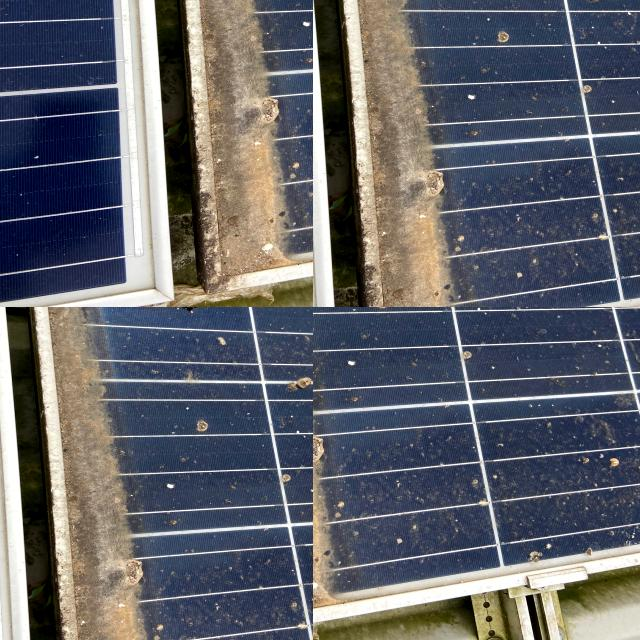bird: (313, 307, 404, 356), (567, 307, 640, 347), (442, 307, 525, 342), (518, 489, 548, 572), (613, 355, 640, 439), (450, 307, 523, 337), (342, 307, 414, 330), (562, 307, 630, 330), (370, 307, 425, 321), (502, 307, 579, 314)
crack: (313, 0, 353, 25), (313, 0, 364, 17), (313, 0, 348, 22), (313, 0, 352, 14), (313, 0, 345, 17), (313, 0, 364, 10), (313, 0, 341, 17), (313, 0, 343, 15), (320, 0, 364, 8), (313, 0, 342, 10), (313, 0, 332, 13), (313, 0, 339, 9), (313, 0, 336, 10), (313, 0, 338, 9), (313, 0, 332, 11), (313, 0, 338, 8), (313, 0, 332, 8)
dust: (58, 0, 163, 93), (188, 60, 298, 126), (12, 0, 118, 33), (0, 0, 70, 39), (19, 307, 93, 315), (115, 307, 192, 312), (126, 307, 204, 311), (38, 307, 98, 311), (45, 307, 106, 310), (0, 307, 22, 313), (0, 307, 34, 310), (0, 307, 19, 312), (0, 307, 17, 310)
